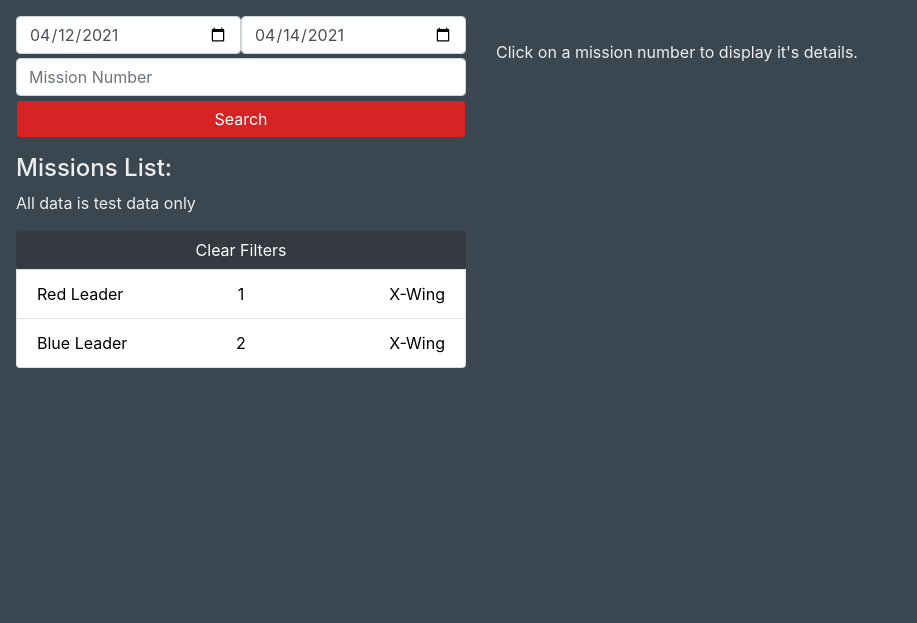
Test: Mission List › Mission List - initial load, filter, clear filter, select a single mission and render details
The image size is (917, 623).
Expected: the number of list items is 2, [16,269,466,319]; [16,319,466,368]
Expected: the text "Red Leader" is shown, [37,284,123,304]
similute entering a value into the textbox of 1
Type "1" into the field with test id "msnNumber". click: (241, 77)
box: [16,58,466,96]
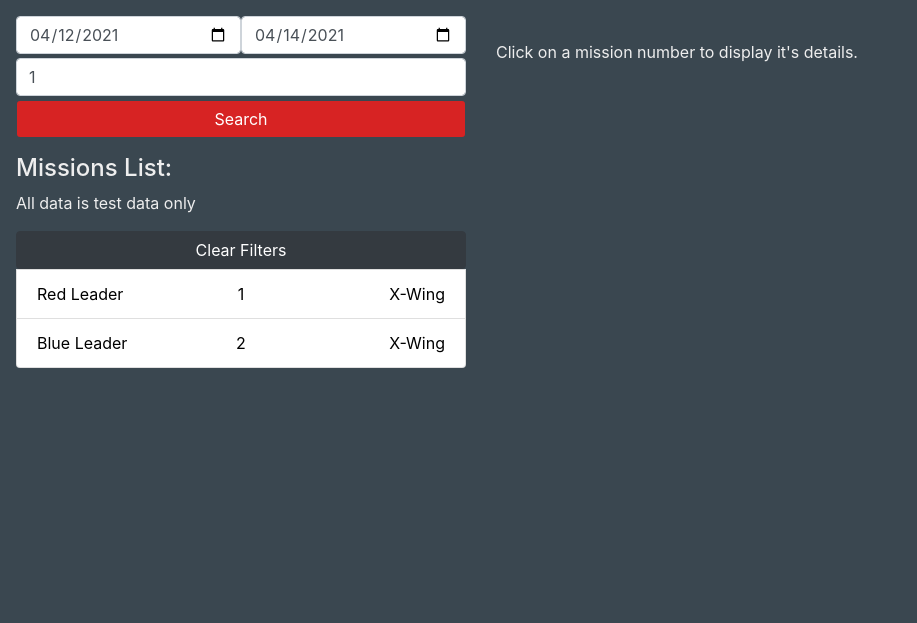
simulate clicking on the search button
Click the button with test id "search". click: click(241, 119)
box: [16,100,466,138]
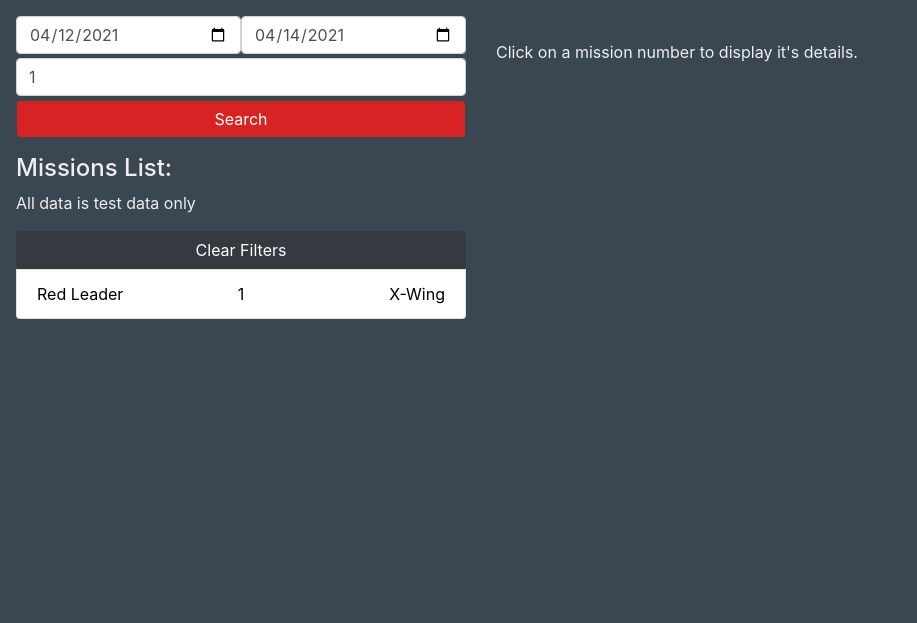
Expected: the text "Red Leader" is shown, [37,284,123,304]
Result: the text "Blue Leader" is gone
simulate clicking on the clear filter button
Click the button with test id "clear". click: click(241, 250)
box: [16,231,466,269]
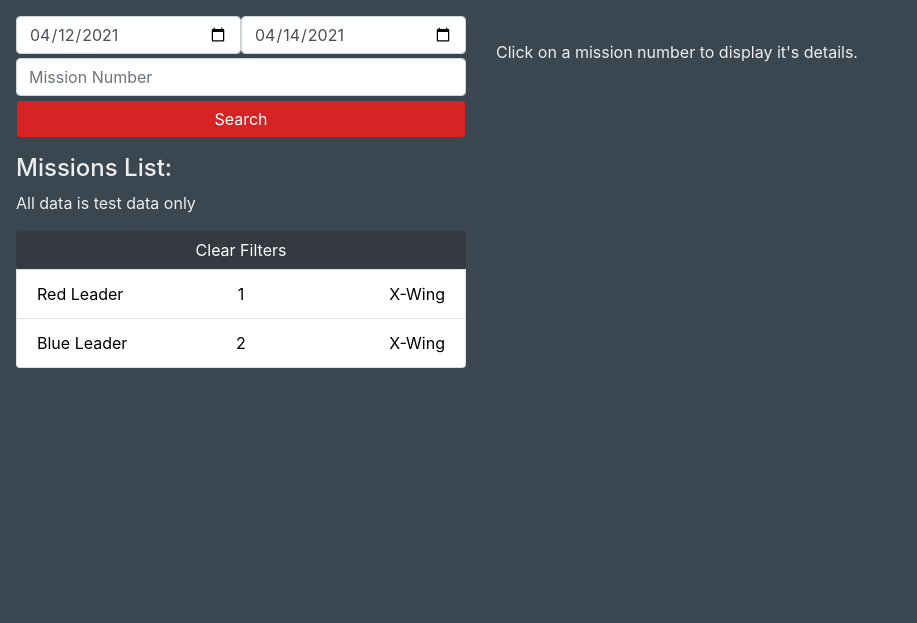
Result: the text "Blue Leader" is shown at [37,333,127,353]
simulate clicking on an a mission in the mission list
Click the text "Red Leader". click: click(80, 294)
box: [37,284,123,304]
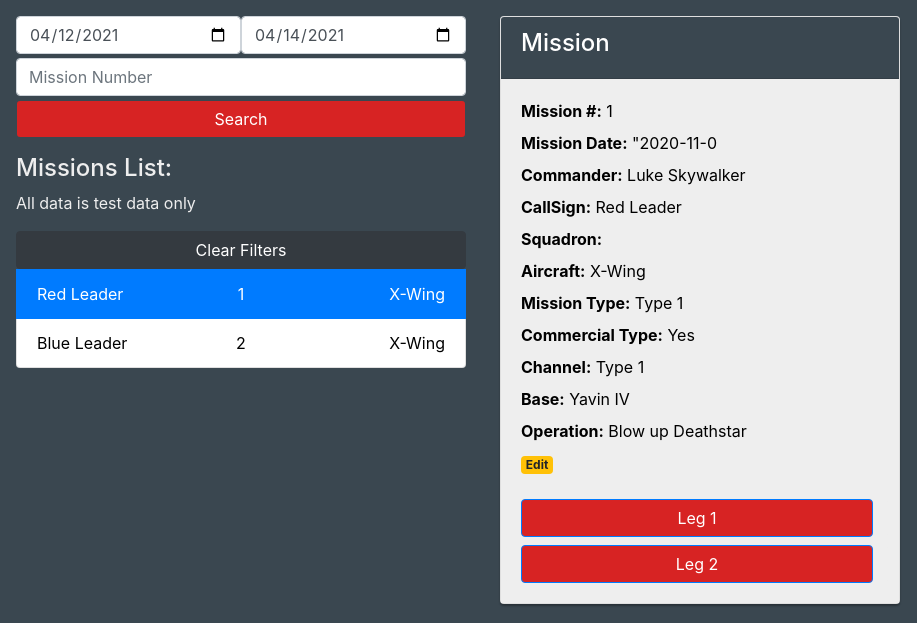
Result: the text "Operation:" is shown at [521,421,604,441]
Result: the text "Operation: Blow up Deathstar" is shown at [521,421,747,441]
